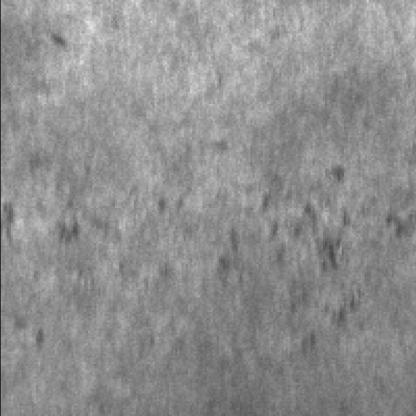rolled-in_scale: (210, 168, 391, 352), (50, 200, 189, 310)
